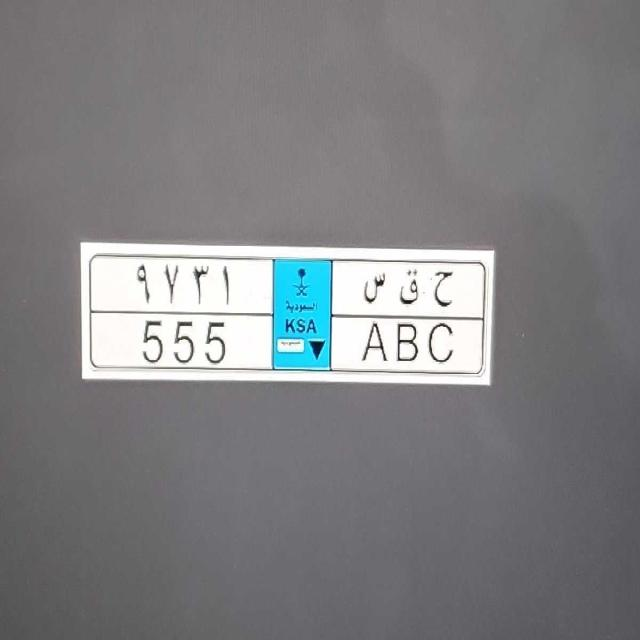license_plate: (113, 312, 472, 376)
